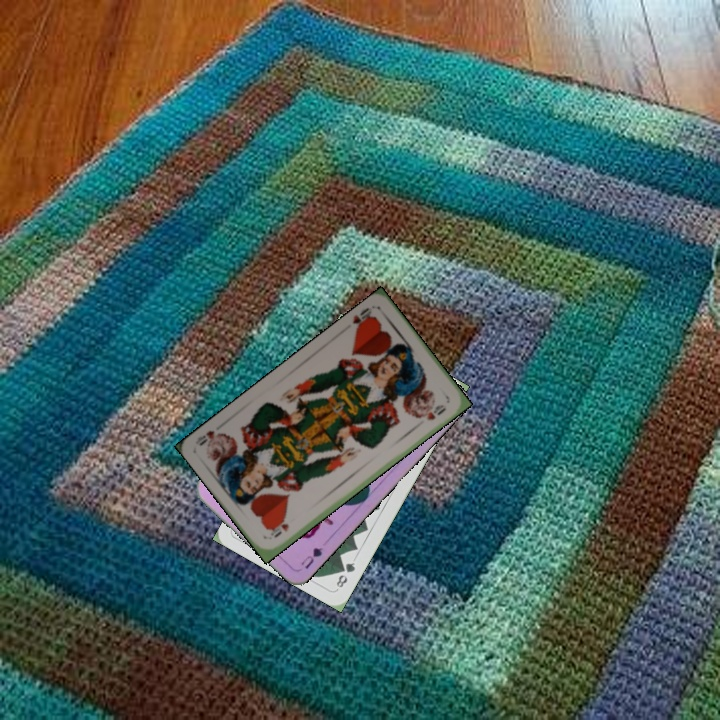G8: (332, 558, 358, 590)
GU: (297, 543, 326, 572)
HO: (348, 303, 378, 335), (266, 519, 291, 540)
